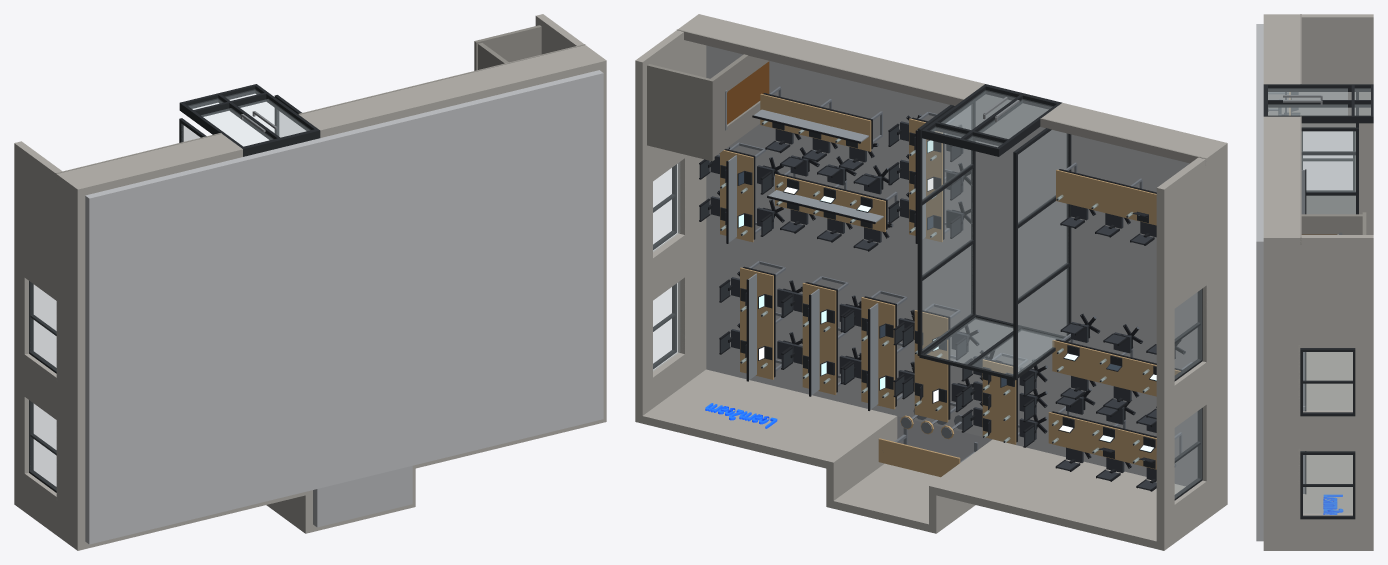
File: classroom.glb
The picture shows the model from 3 angles, left to right: view 1: azimuth 30°, elevation 25°; view 2: azimuth 150°, elevation 25°; view 3: azimuth 270°, elevation 25°; orthographic projection. The views are drawn at different scales.
Parts seen in each view (by area): view 1: floor_main, wall_left, wall_front, floor_recess, door_frame, wall_right, window_left_01_glass, window_left_02_glass, room_wc_ceiling, wall_back_left, door_leaf_left, door_leaf_right (+4 smaller); view 2: floor_main, wall_left, wall_right, wall_back_left, wall_back_right, lobby_glass_left_glass, wall_front, lobby_glass_right_glass, room_wc_ceiling, wall_recess_back, wall_front_cut_edge, desk_R6 (+30 smaller); view 3: wall_right, wall_left, wall_front, lobby_glass_left_glass, floor_main, lobby_glass_right_glass, wall_back_right, window_right_01_glass, window_right_02_glass, wall_back_left, door_frame, room_wc_walls (+13 smaller).
Part boxes in pixels (box(x1,y1,x2,y2)): floor_main: box(85, 70, 603, 544); wall_left: box(14, 141, 85, 549); wall_front: box(56, 45, 606, 195); floor_recess: box(313, 466, 412, 527); door_frame: box(179, 84, 320, 156); wall_right: box(535, 14, 606, 423); window_left_01_glass: box(29, 401, 56, 490); window_left_02_glass: box(29, 281, 56, 371); room_wc_ceiling: box(474, 25, 541, 70); wall_back_left: box(14, 486, 312, 550); door_leaf_left: box(201, 108, 272, 146); door_leaf_right: box(238, 99, 309, 137); floor_main: box(706, 45, 1197, 486); wall_left: box(1156, 143, 1227, 542); wall_right: box(635, 30, 706, 422); wall_back_left: box(929, 439, 1227, 550); wall_back_right: box(635, 369, 897, 470); lobby_glass_left_glass: box(1018, 130, 1068, 373); wall_front: box(678, 14, 1227, 162); lobby_glass_right_glass: box(922, 105, 972, 350); room_wc_ceiling: box(647, 64, 714, 161); wall_recess_back: box(826, 463, 975, 533); wall_front_cut_edge: box(677, 29, 1206, 165); desk_R6: box(752, 86, 882, 151); wall_right: box(1263, 235, 1373, 550); wall_left: box(1268, 14, 1373, 234); wall_front: box(1263, 14, 1300, 244); lobby_glass_left_glass: box(1268, 92, 1355, 213); floor_main: box(1256, 24, 1263, 541); lobby_glass_right_glass: box(1302, 131, 1355, 213); wall_back_right: box(1263, 460, 1373, 550); window_right_01_glass: box(1303, 455, 1352, 513); window_right_02_glass: box(1303, 352, 1352, 410); wall_back_left: box(1306, 352, 1352, 411); door_frame: box(1263, 84, 1373, 123); room_wc_walls: box(1301, 214, 1362, 234).
Bounding box in the file's own units: 14.51 × 10.47 × 3.2.
